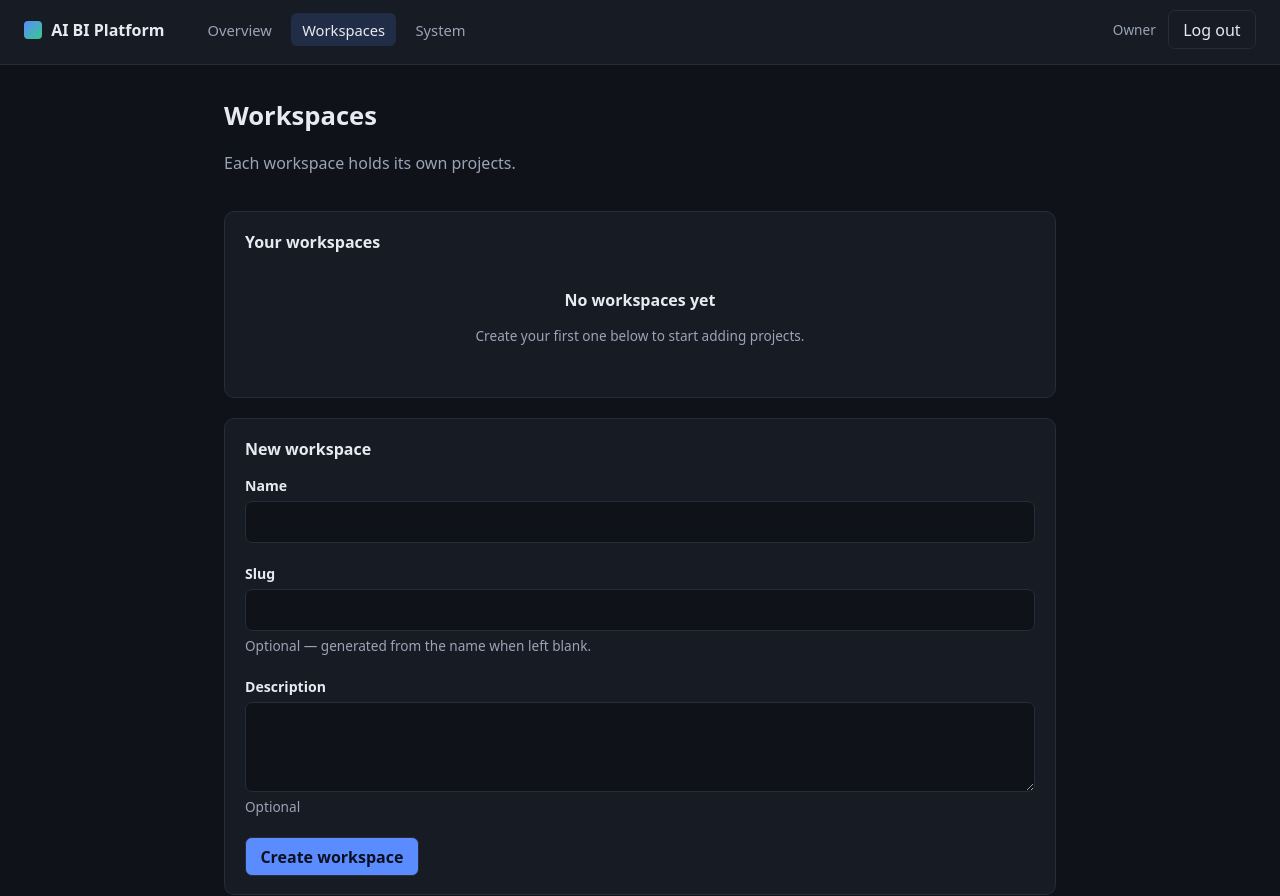
WorkspacesPage › reports a duplicate slug from the backend
This screenshot has width=1280, height=896.
Check: the element with test id "workspaces-empty" is shown, box [476,289,804,344]
Type "Analytics" into the field labelled "Name" at (640, 522), box [245,501,1035,543]
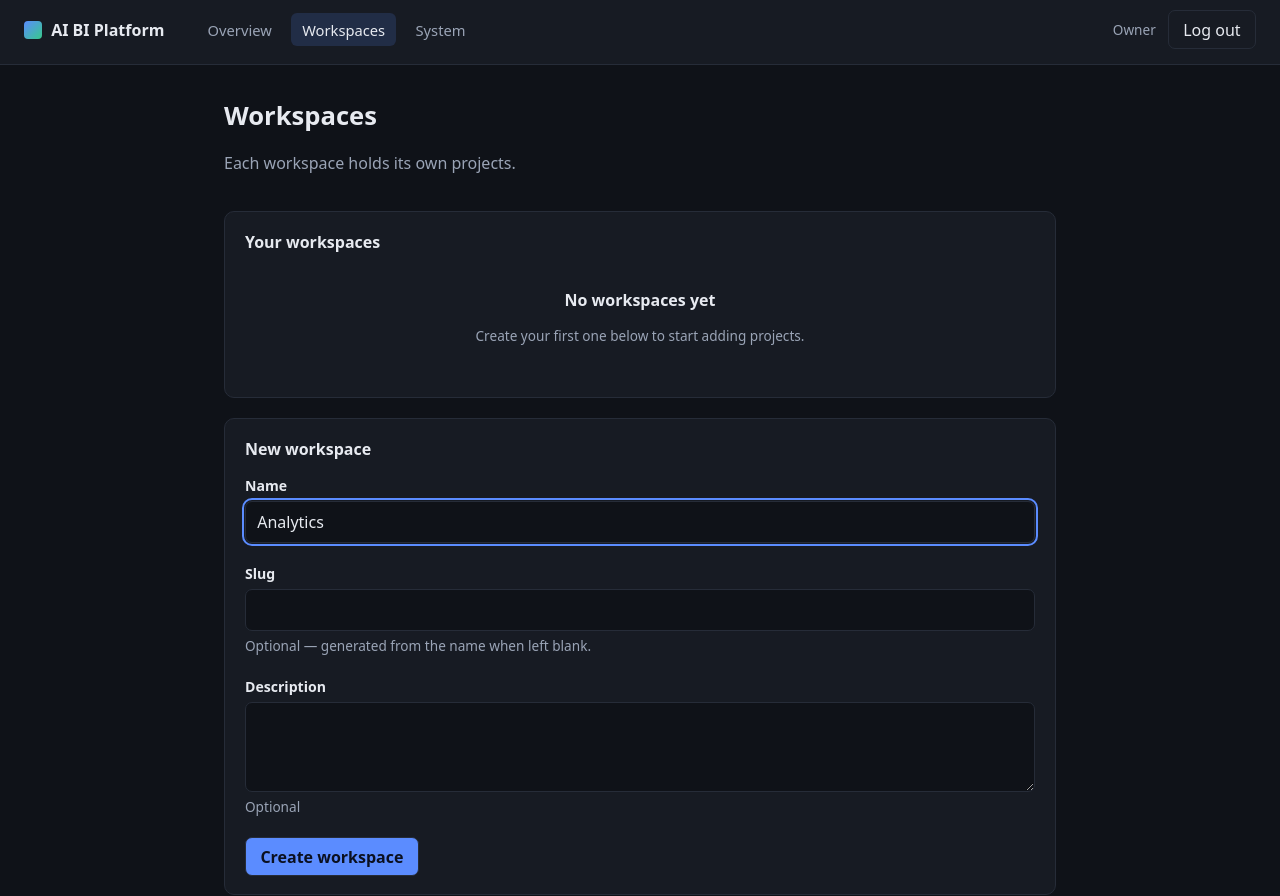
Click the button "Create workspace" at (332, 857), box [245,837,419,876]
(page scrolled)
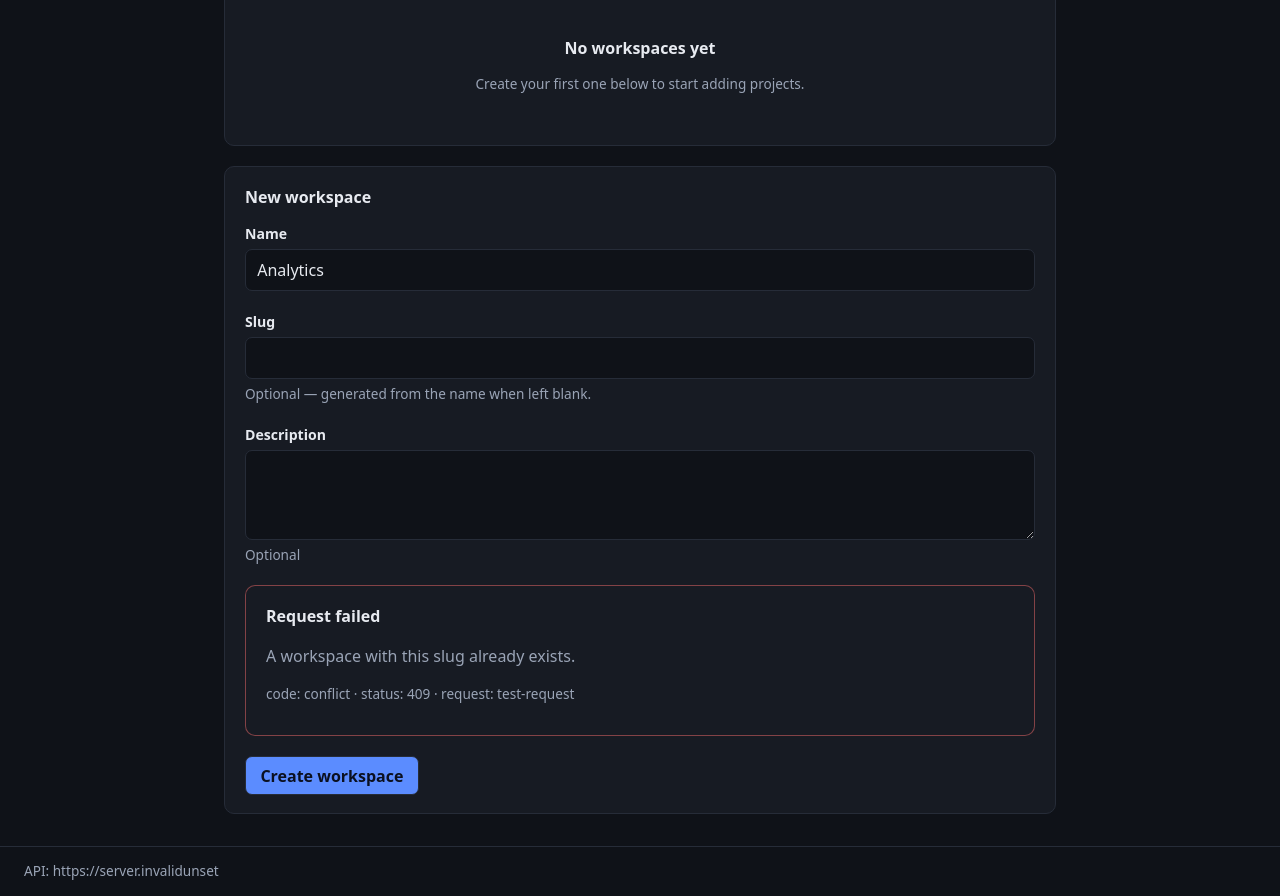
Check: the message shows "slug already exists", box [266,645,575,667]
